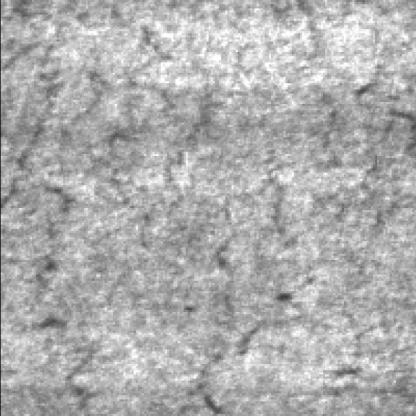crazing: (200, 29, 374, 410), (14, 23, 188, 345)
